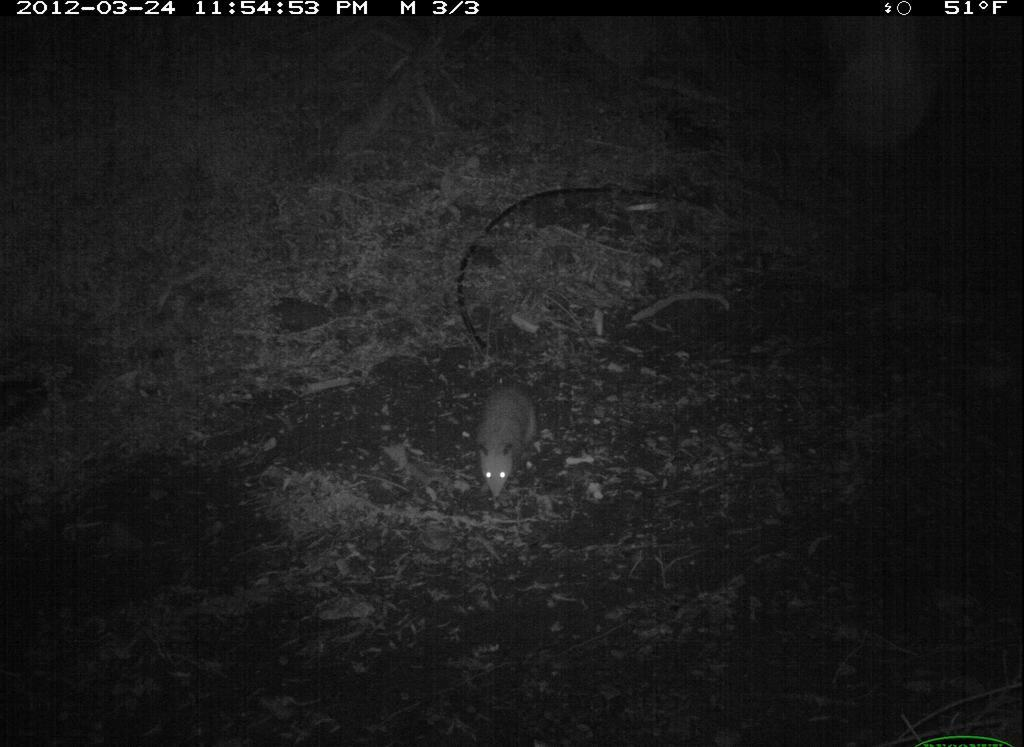opossum: (469, 379, 546, 510)
